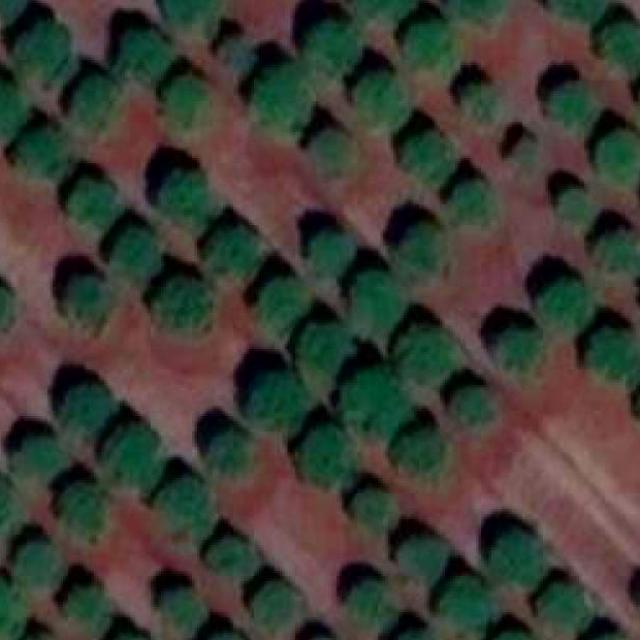Tree: (342, 372, 414, 440), (246, 372, 316, 434), (396, 326, 458, 388), (13, 23, 74, 84), (254, 65, 311, 130), (298, 323, 355, 388), (440, 579, 500, 640), (350, 272, 407, 336), (102, 426, 159, 488), (300, 429, 360, 486), (161, 174, 216, 234), (257, 276, 309, 338), (355, 73, 410, 130), (491, 533, 548, 587), (159, 481, 211, 538), (306, 22, 362, 73), (112, 228, 161, 285), (395, 223, 445, 278), (586, 330, 640, 380), (538, 280, 589, 331), (61, 388, 116, 435), (208, 230, 257, 282), (404, 135, 453, 187), (120, 31, 171, 80), (404, 24, 455, 73), (154, 280, 208, 326), (73, 75, 118, 130), (538, 584, 592, 629), (349, 584, 398, 631), (252, 584, 303, 629), (548, 86, 600, 130), (599, 132, 640, 186), (13, 543, 63, 587), (596, 20, 640, 70), (20, 130, 66, 177), (169, 79, 211, 130), (63, 486, 104, 538), (206, 540, 260, 579), (450, 182, 495, 228), (161, 589, 205, 636), (66, 184, 118, 223), (393, 433, 445, 472), (66, 279, 107, 328), (68, 586, 107, 636), (11, 437, 61, 476), (164, 0, 221, 34), (398, 540, 445, 581), (309, 236, 353, 274), (314, 130, 350, 175), (208, 434, 246, 476), (602, 232, 640, 274), (496, 334, 541, 369), (352, 492, 398, 526), (464, 86, 499, 127), (558, 189, 600, 223), (450, 390, 489, 424), (450, 0, 497, 27), (0, 579, 22, 636), (354, 0, 414, 19), (221, 37, 252, 73), (550, 0, 602, 21), (0, 83, 22, 132), (0, 481, 17, 536), (515, 138, 536, 172), (0, 286, 14, 331), (390, 633, 450, 640), (485, 635, 540, 640), (207, 635, 254, 640), (111, 635, 153, 640)
